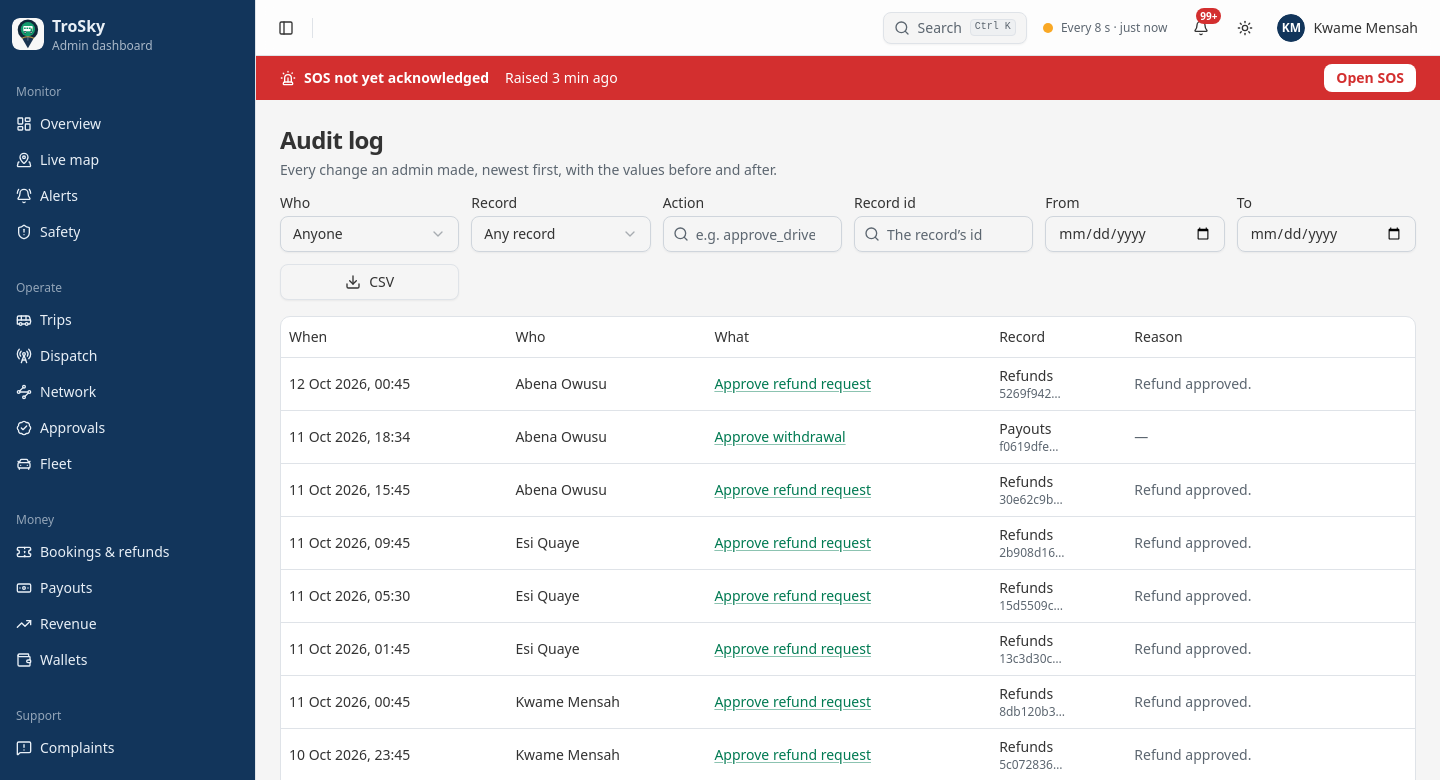
Test: Audit log › filters by the kind of record, kept in the address
The width and height of the screenshot is (1440, 780).
Click the dropdown labelled "record".
click(561, 234)  # box [471,216,651,252]
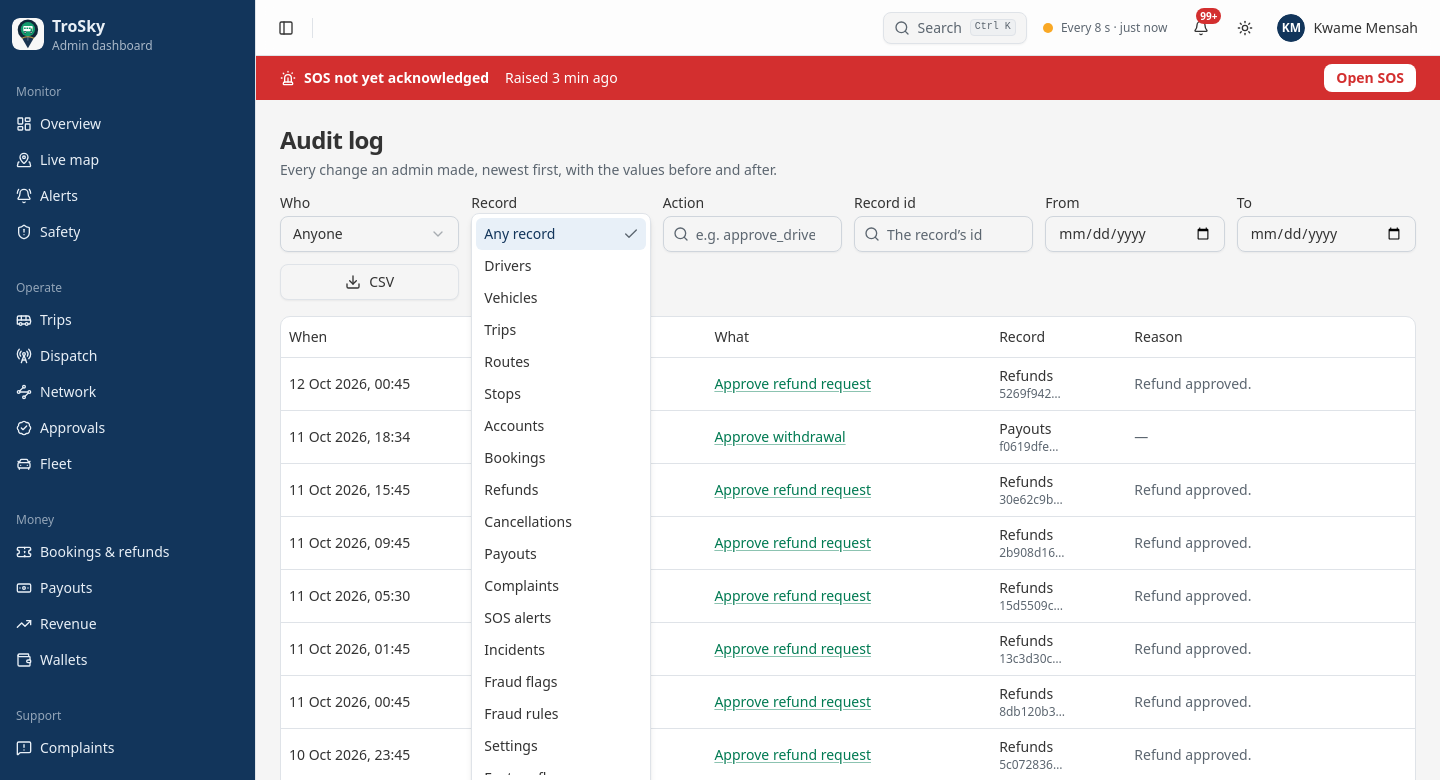
Click the option "Settings".
click(511, 746)  # box [484,736,538,755]
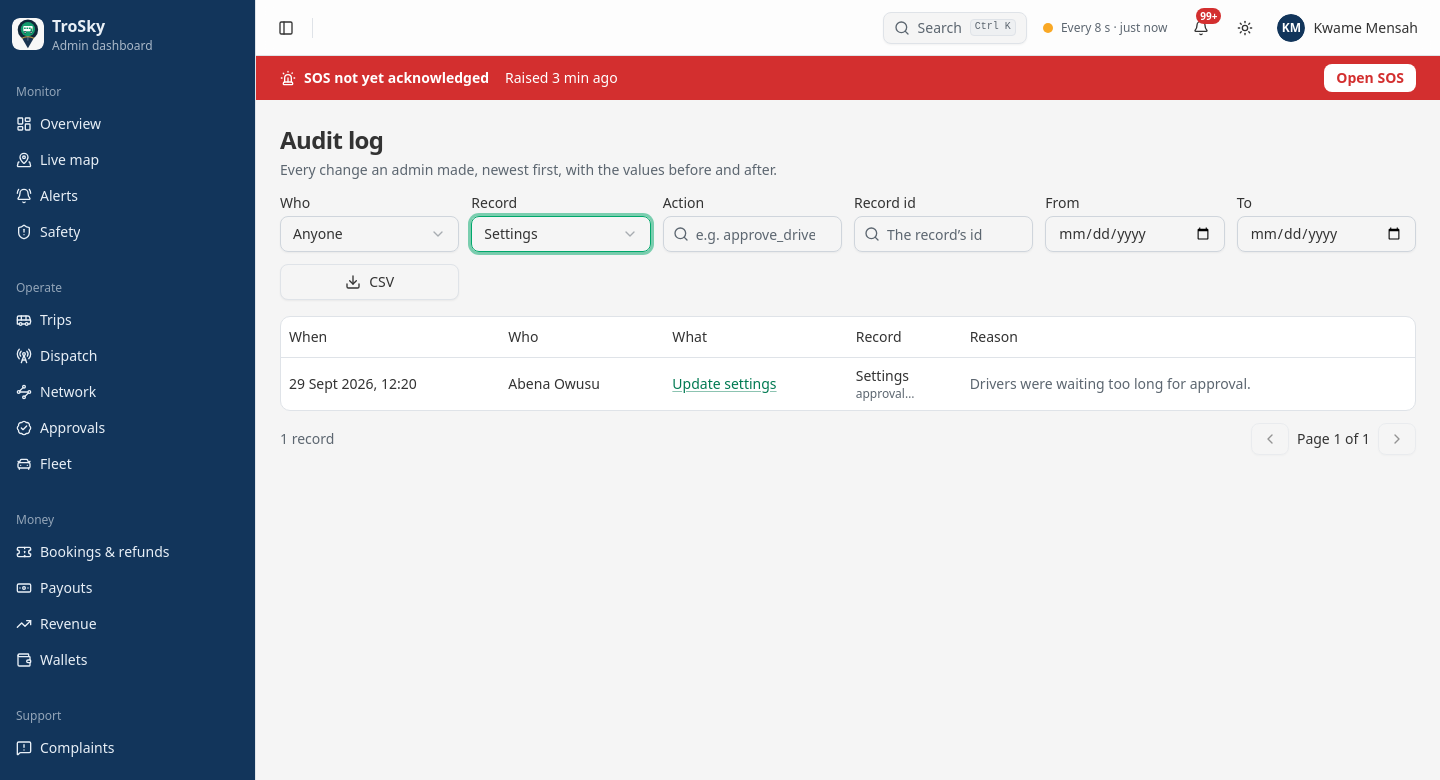
Expected: the row that starts with "29 Sept 2026, 12:20" shows "settings", [856,366,909,384]
